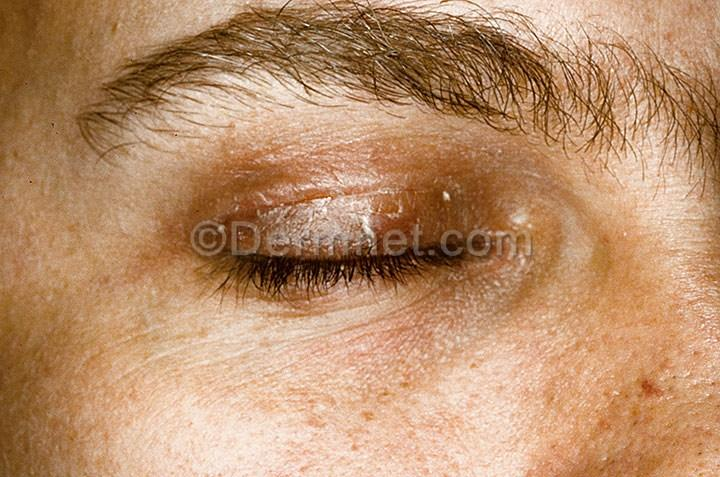Eczema: (332, 322, 408, 411), (406, 145, 489, 221), (335, 151, 422, 221), (395, 302, 459, 387), (262, 161, 345, 223), (487, 182, 554, 248), (445, 274, 508, 341), (498, 255, 555, 314), (624, 357, 676, 418), (189, 179, 244, 236), (424, 205, 500, 240), (319, 215, 382, 251), (234, 174, 280, 220), (372, 212, 432, 244), (254, 219, 317, 247)
